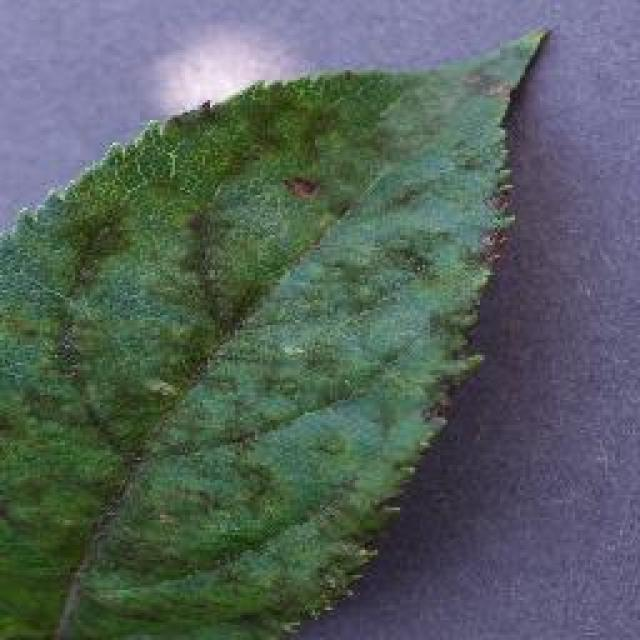apple scab disease: (0, 22, 552, 637)
